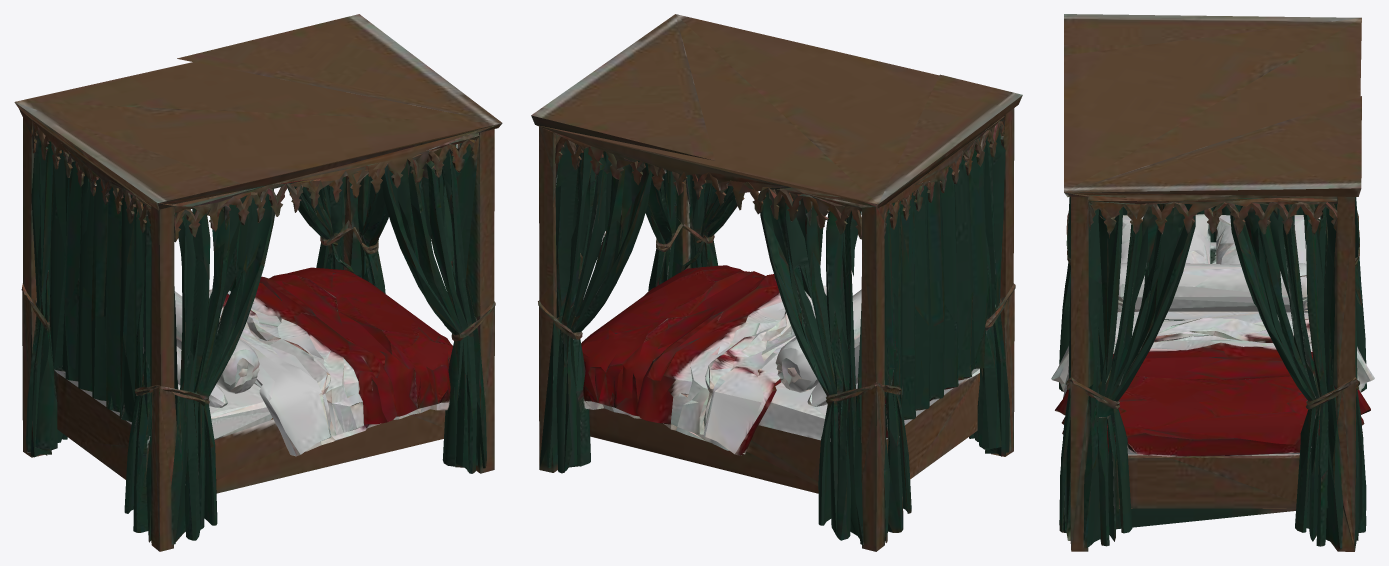
The model's file is bed_curtained_great.glb.
3 views of the same model, side by side, from view 1: azimuth 30°, elevation 25°; view 2: azimuth 150°, elevation 25°; view 3: azimuth 270°, elevation 25° (orthographic). The views are drawn at different scales.
Visible parts, largest first — view 1: bed_curtained_great; view 2: bed_curtained_great; view 3: bed_curtained_great.
Part boxes in pixels (x1,y1,x2,y2): bed_curtained_great: [14, 14, 502, 551]; bed_curtained_great: [531, 14, 1022, 551]; bed_curtained_great: [1051, 14, 1374, 551].
Size of the model in its own units: 2.1 by 2 by 1.6.
1 material, 1 textured.
